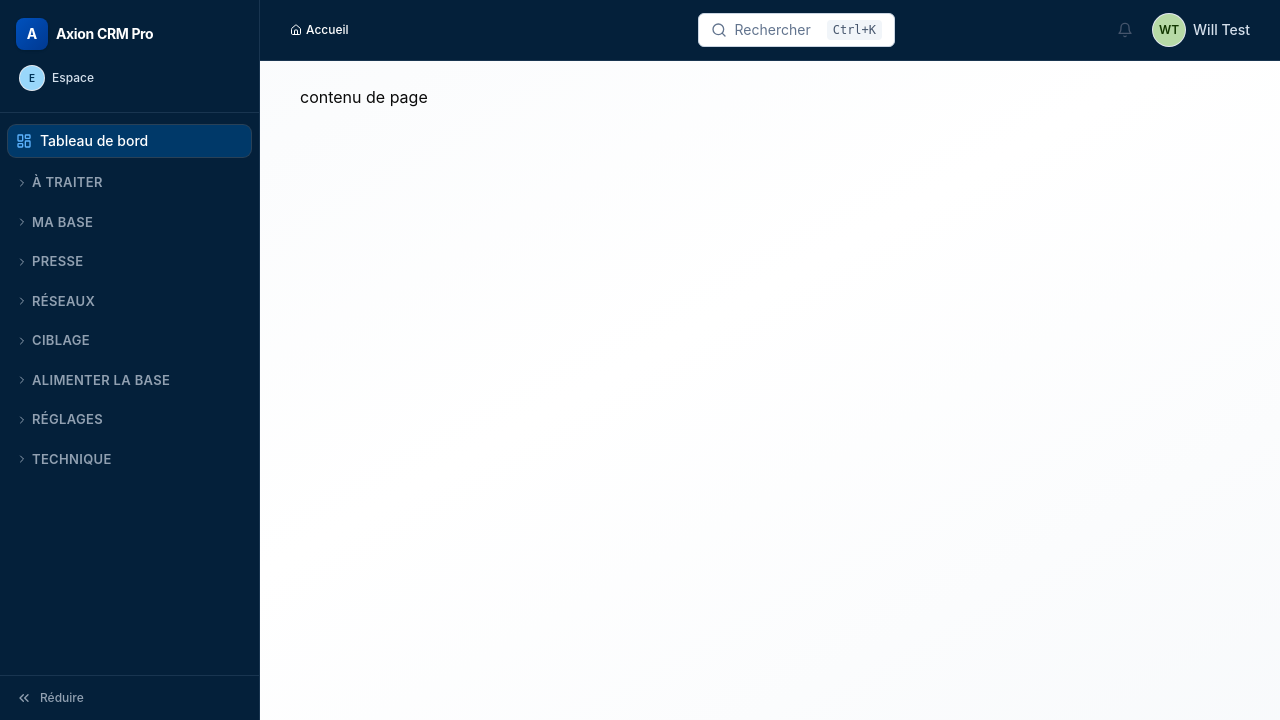
Test: D24-002 — la cloche de l’en-tete ouvre un panneau reel › 500 : le panneau nomme la panne, et n’affirme PLUS « aucune notification »
Step 1. Click the button named "Notifications" → (1125, 30), box [1111,16,1139,44]
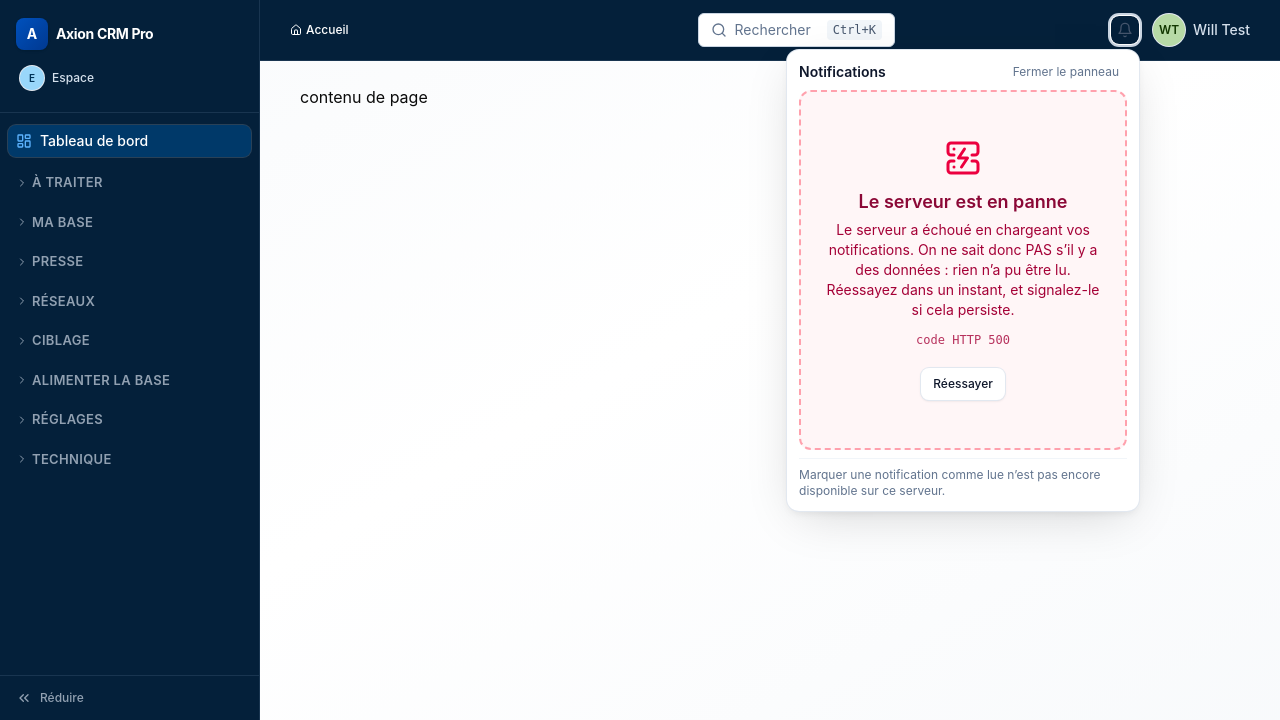
Result: the text "serveur est en panne" is shown at [859,191,1068,212]
Result: the text "code HTTP 500" is shown at [916,332,1010,348]
